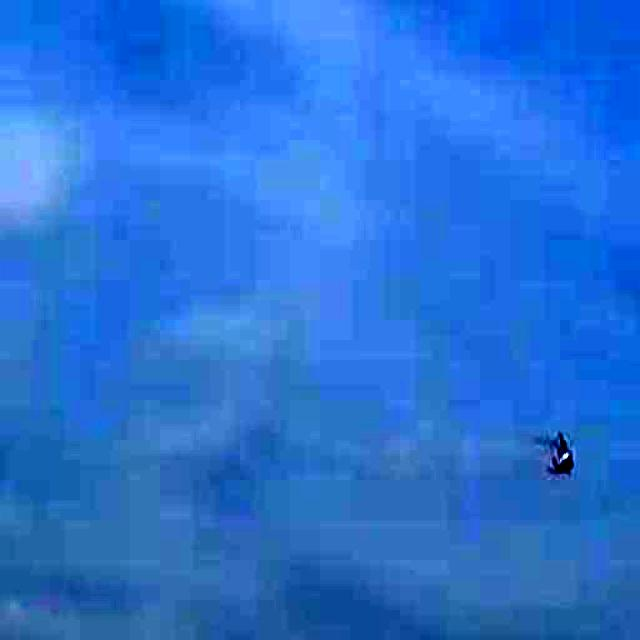drone: (521, 419, 599, 491)
